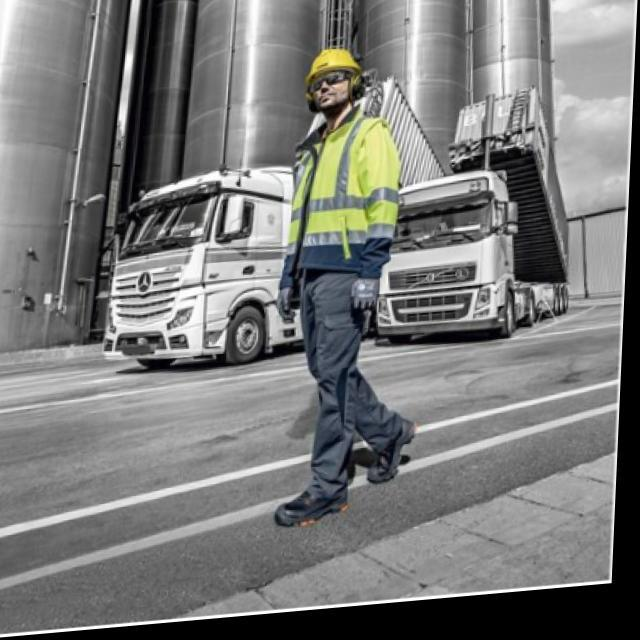hard_hat: (298, 38, 371, 123)
shoes: (271, 415, 418, 534)
vest: (276, 108, 405, 283)
